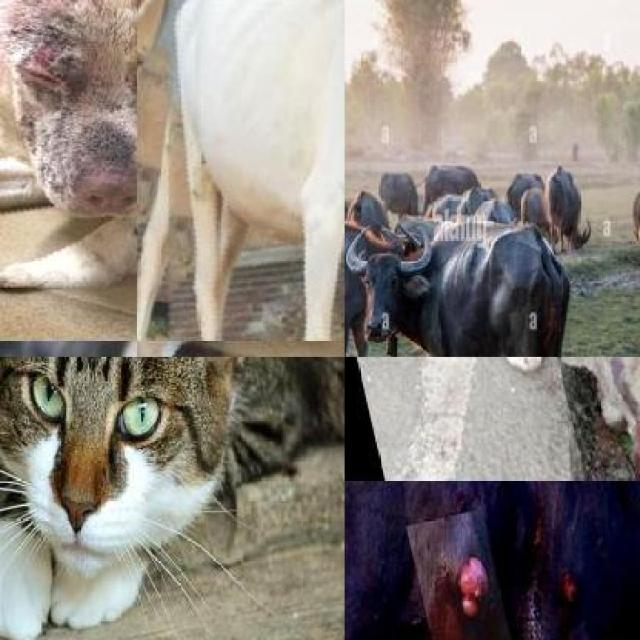buffalo: (344, 480, 640, 640), (360, 245, 554, 357), (421, 156, 482, 204), (550, 168, 584, 247), (379, 165, 416, 213), (511, 178, 543, 224)
cat: (0, 357, 345, 615)
cow: (137, 0, 345, 340), (472, 357, 640, 480)
dog: (0, 0, 137, 340)
injured: (503, 480, 640, 640), (406, 509, 519, 640)
